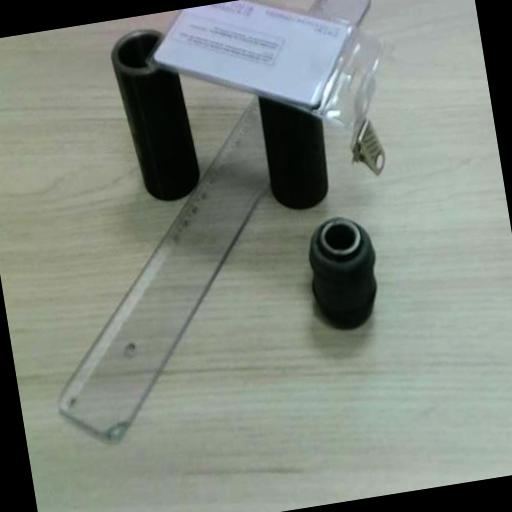peca: (111, 29, 198, 199), (258, 97, 327, 208), (308, 218, 376, 328)
